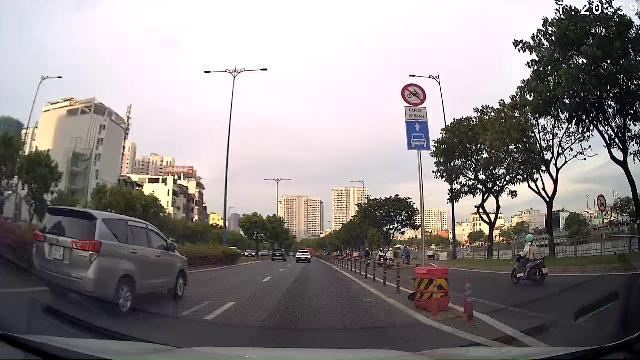103a-cam-oto: (596, 194, 606, 212)
